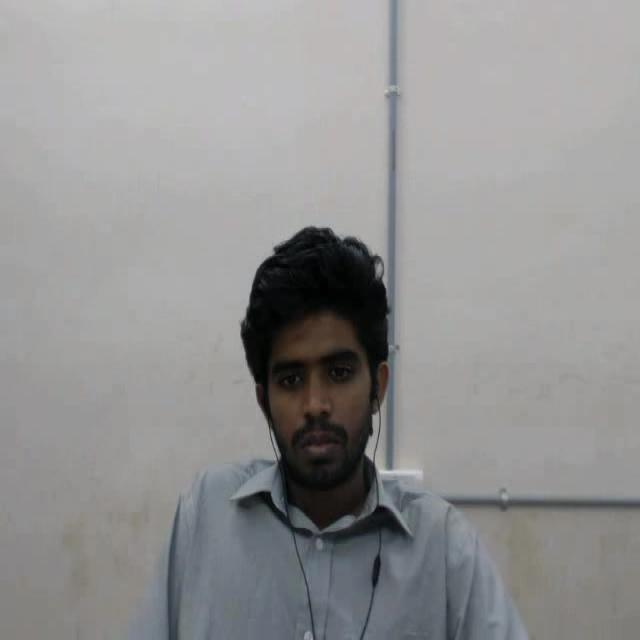Engaged: (219, 197, 420, 512)
